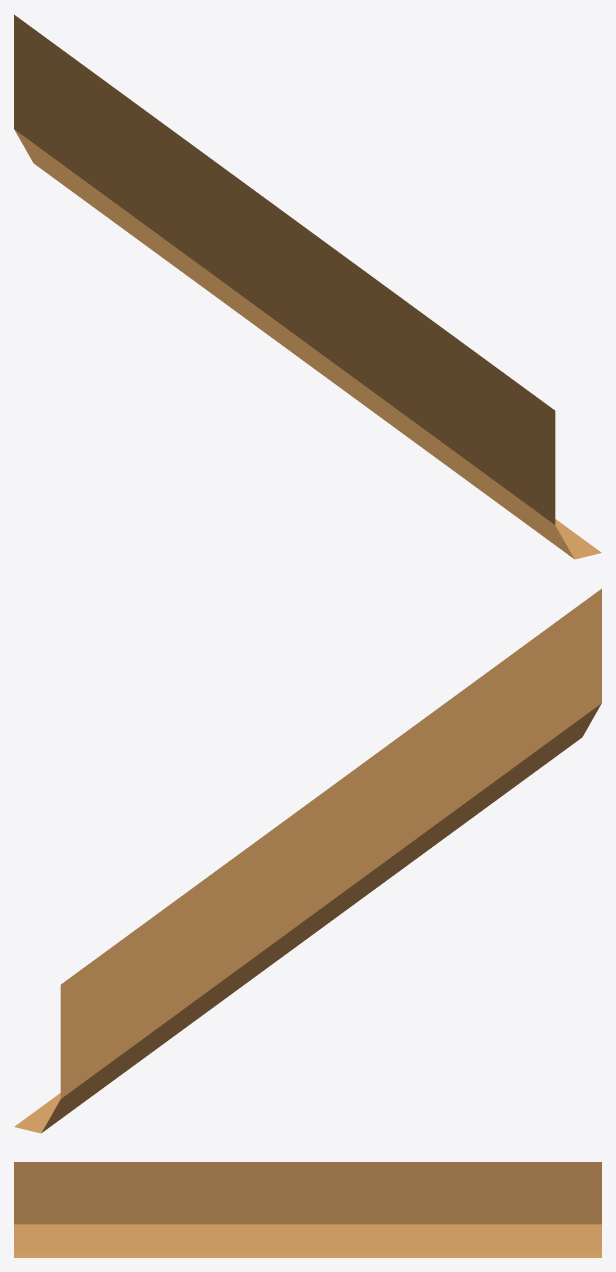
The model's file is Museum_Ark_Door_Border.fbx.
3 views of the same model, one above another, from view 1: azimuth 30°, elevation 25°; view 2: azimuth 150°, elevation 25°; view 3: azimuth 270°, elevation 25° (orthographic). The views are drawn at different scales.
Parts seen in each view (by area): view 1: Archi_Portes_01.002; view 2: Archi_Portes_01.002; view 3: Archi_Portes_01.002.
Part boxes in pixels (box(x1,y1,x2,y2)): Archi_Portes_01.002: box(14, 14, 601, 559); Archi_Portes_01.002: box(14, 588, 601, 1133); Archi_Portes_01.002: box(14, 1162, 601, 1257).
Bounding box in the file's own units: 26.62 × 83.71 × 534.
